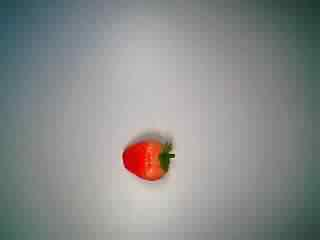strawberry: (109, 122, 175, 188)
